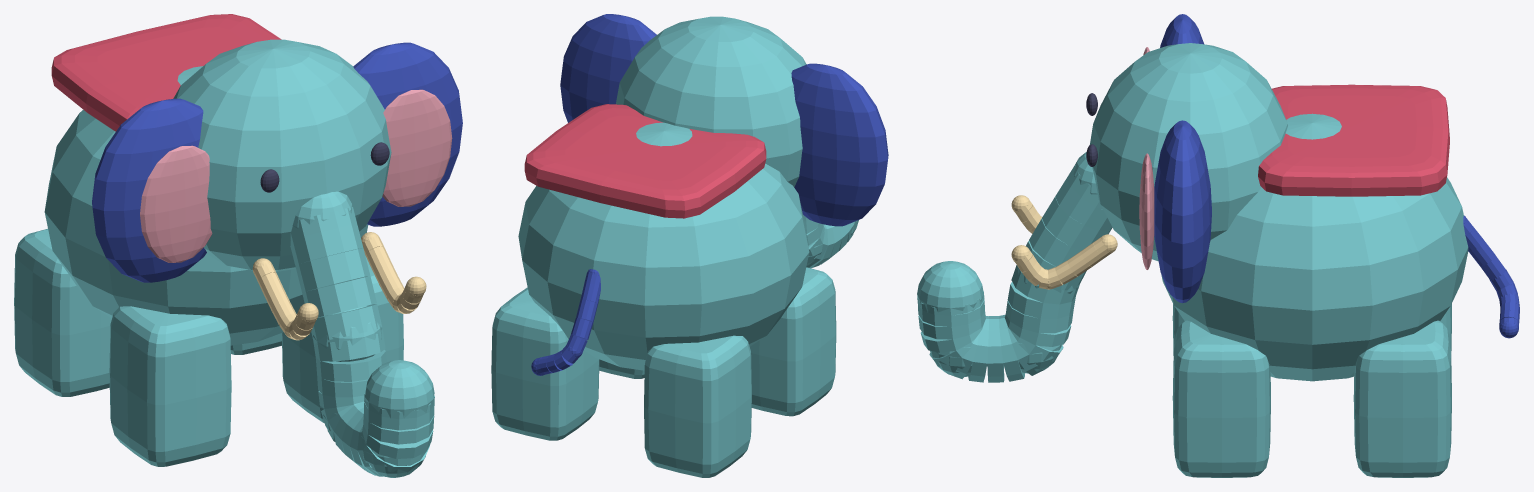
The model's file is elephant-statue.glb.
3 renders of one model, left to right at view 1: azimuth 30°, elevation 25°; view 2: azimuth 150°, elevation 25°; view 3: azimuth 270°, elevation 25°, orthographic. The views are drawn at different scales.
Visible parts, largest first — view 1: elephant-statue; view 2: elephant-statue; view 3: elephant-statue.
Boxes of the visible parts, left/top/right/bottom form: elephant-statue: left=14, top=14, right=462, bottom=477; elephant-statue: left=491, top=14, right=888, bottom=477; elephant-statue: left=917, top=14, right=1519, bottom=477.
Bounding box in the file's own units: 1.03 × 1.04 × 1.53.
